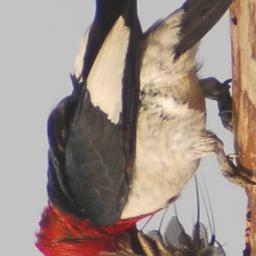Woodpecker: (35, 0, 256, 256)
